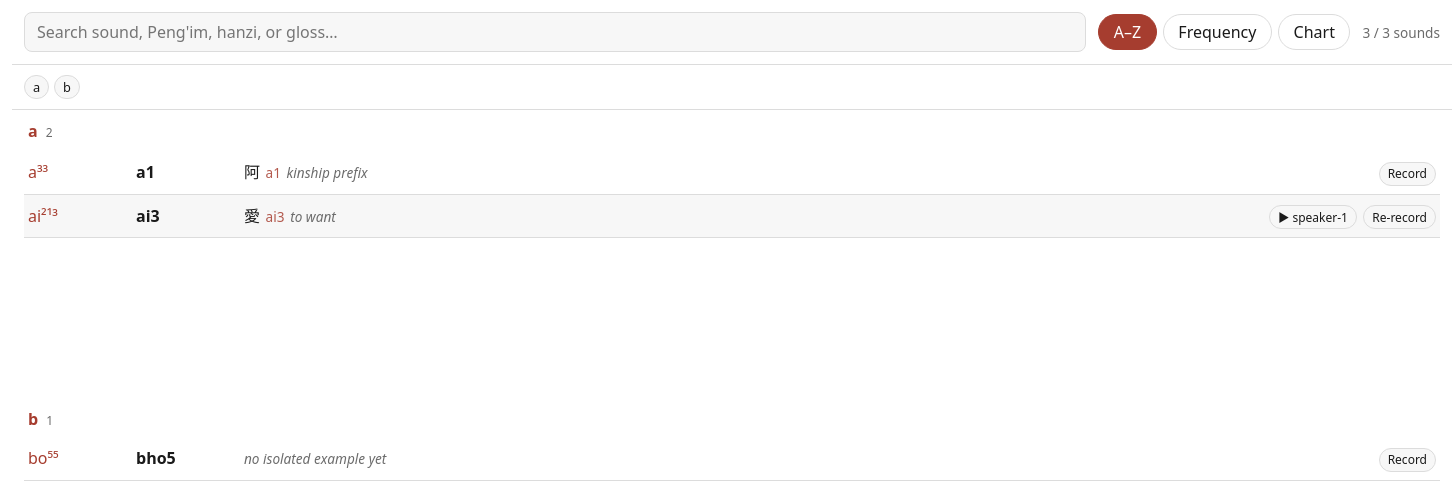
Test: SoundsView chart view (issue #171) › clicking a legal-unattested cell shows a distinct message and no tone rows
Click the button "Chart": (1314, 32) left=1278, top=14, right=1350, bottom=50
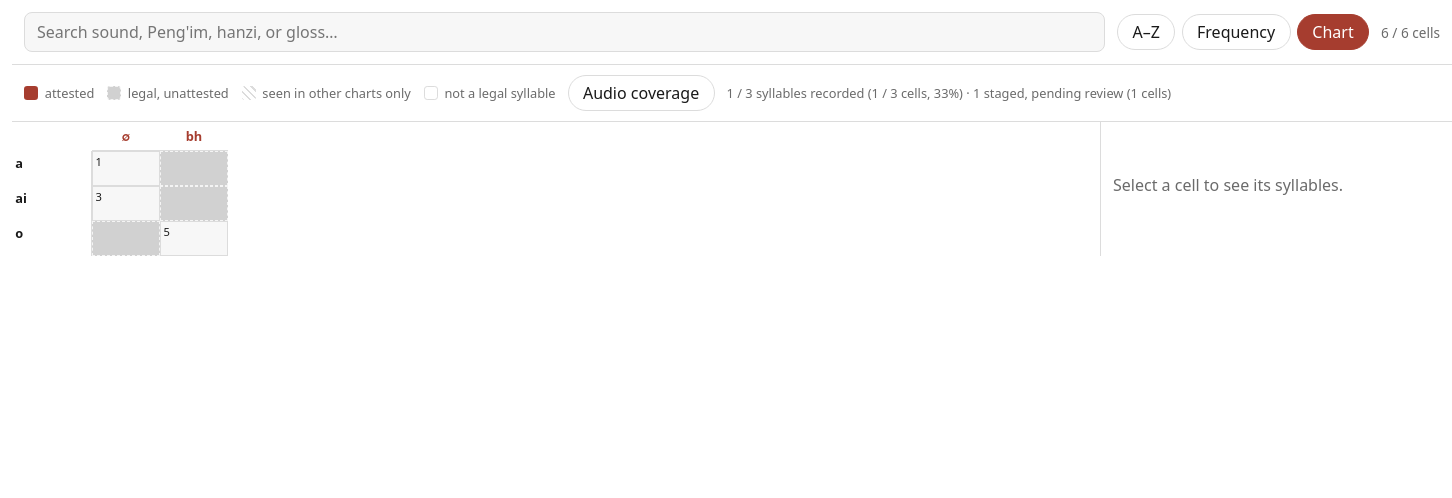
Click the cell named "no initial, rime o: legal, unattested": (126, 238) left=92, top=221, right=160, bottom=256
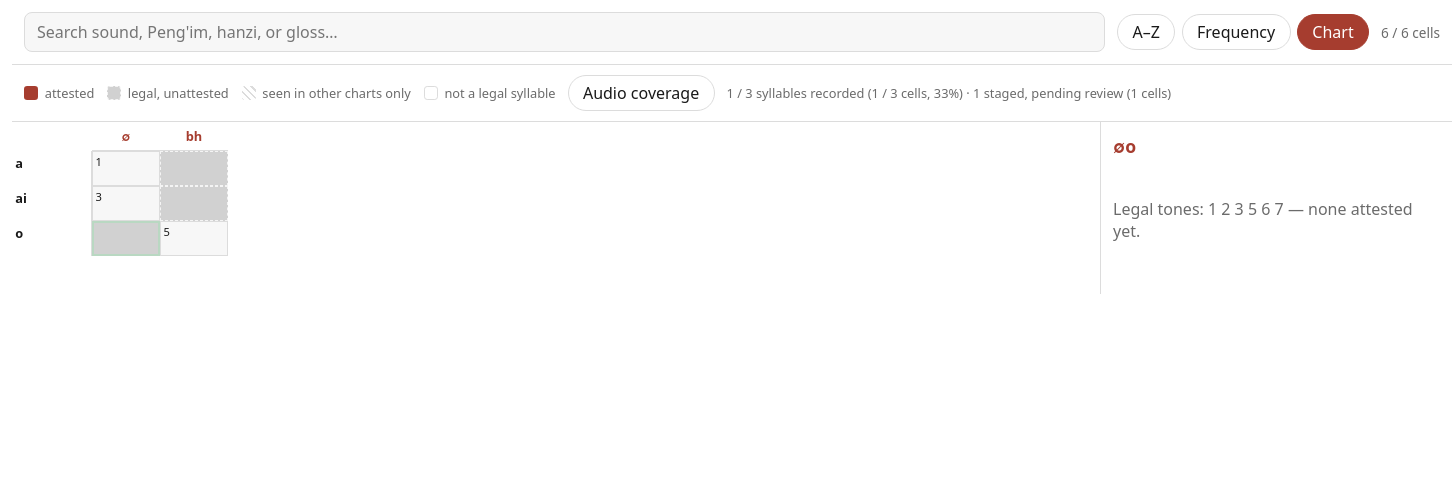
Now the text "Legal tones: 1 2 3 5 6 7 — none attested yet." is shown, box left=1113, top=198, right=1412, bottom=242
